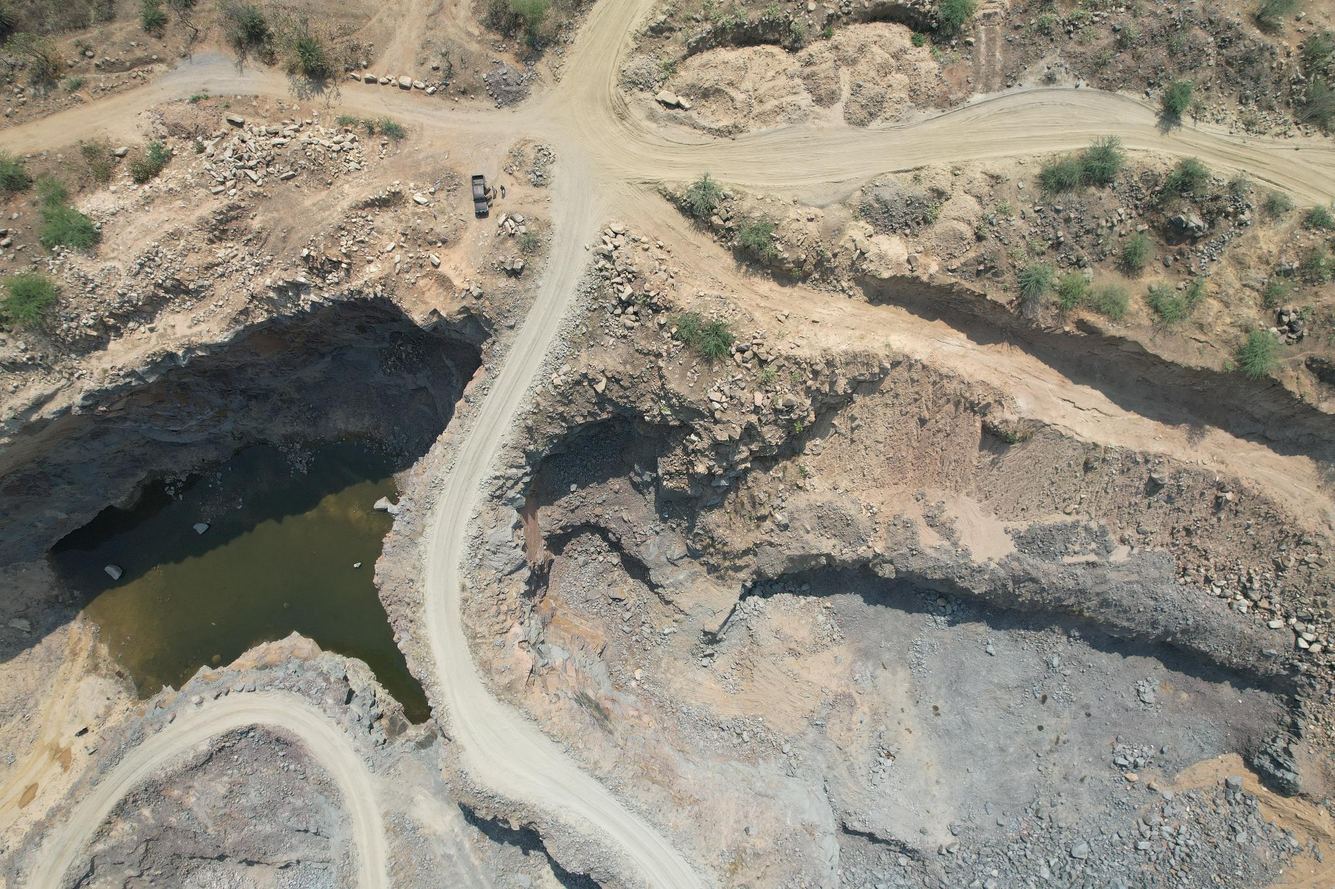benches: (422, 0, 1335, 889), (0, 0, 1335, 524), (28, 693, 390, 889)
truck: (467, 169, 495, 218)
